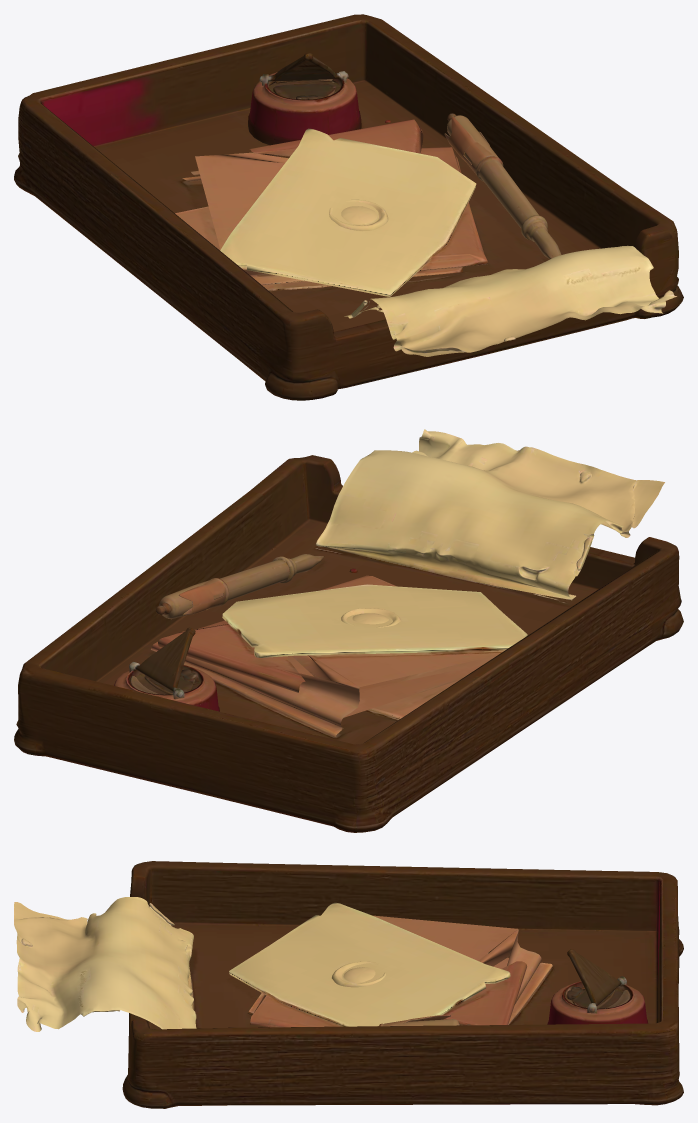
The model's file is correspondence_set.glb.
The picture shows the model from 3 angles, top to bottom: view 1: azimuth 30°, elevation 25°; view 2: azimuth 150°, elevation 25°; view 3: azimuth 270°, elevation 25°; orthographic projection. The views are drawn at different scales.
Parts seen in each view (by area): view 1: tripo_75f6757d_aab8_4248_be03_c89d2eeb255b; view 2: tripo_75f6757d_aab8_4248_be03_c89d2eeb255b; view 3: tripo_75f6757d_aab8_4248_be03_c89d2eeb255b.
Part boxes in pixels (x1=…): tripo_75f6757d_aab8_4248_be03_c89d2eeb255b: x1=14, y1=14, x2=683, y2=400; tripo_75f6757d_aab8_4248_be03_c89d2eeb255b: x1=14, y1=429, x2=683, y2=832; tripo_75f6757d_aab8_4248_be03_c89d2eeb255b: x1=14, y1=861, x2=683, y2=1108.
Bounding box in the file's own units: 0.6392 × 0.1635 × 0.9995.
1 material, 1 textured.
